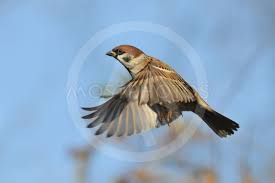hsparrow: (79, 44, 243, 141)
